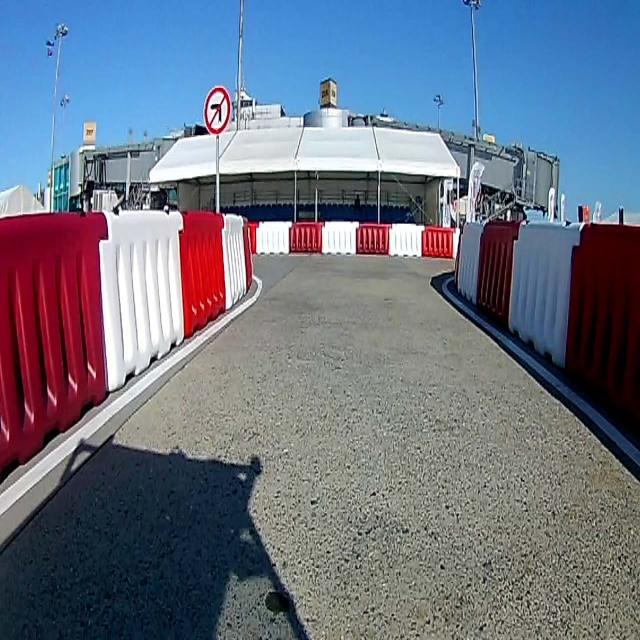soladonulmez: (203, 83, 230, 133)
